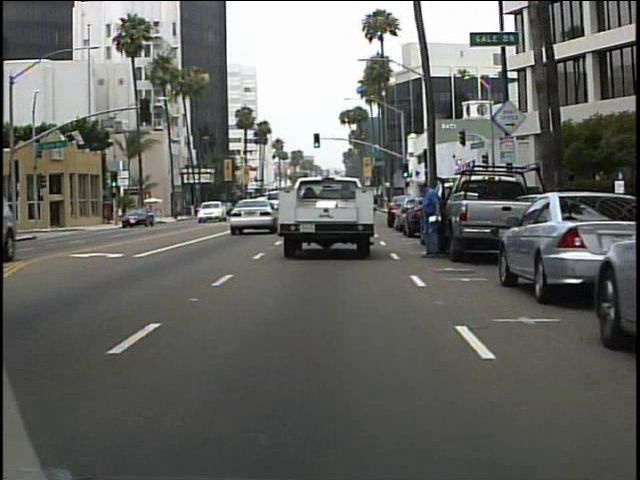person: (413, 177, 448, 263)
